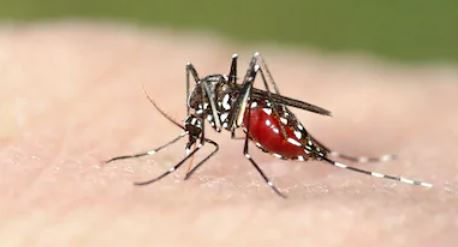dengue_mosquito: (123, 51, 433, 189)
